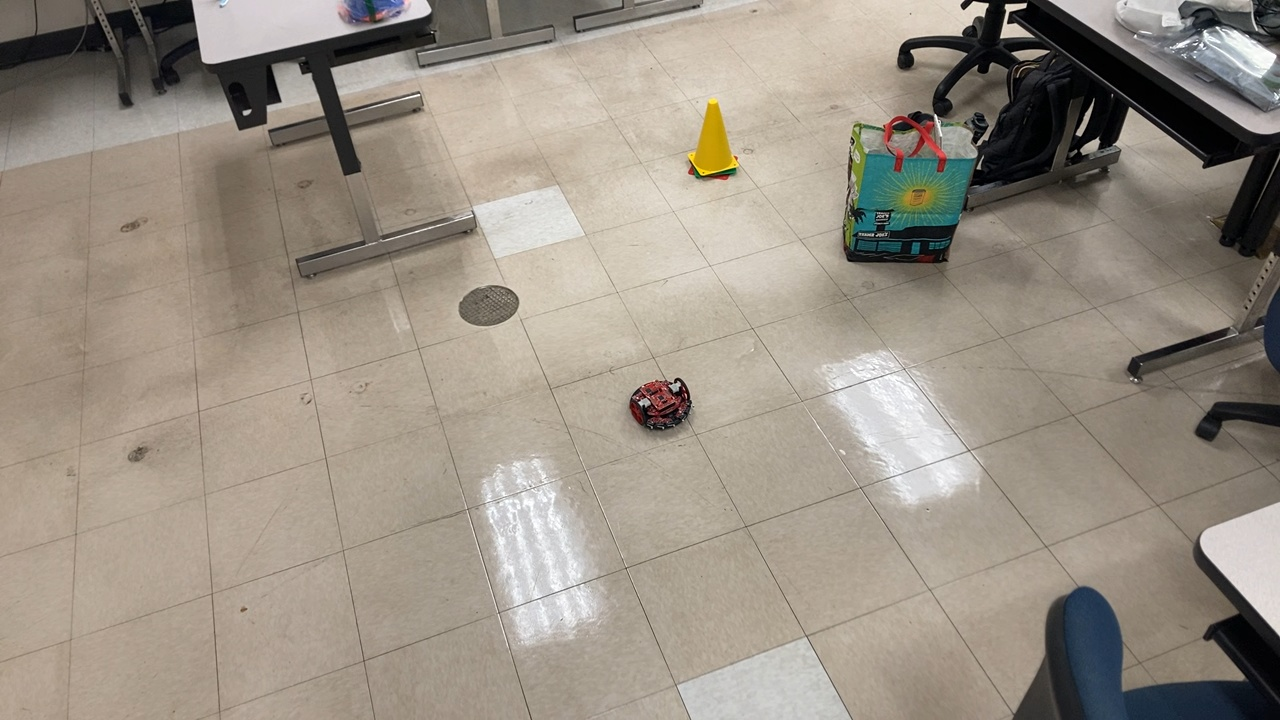robot: (626, 375, 695, 434)
